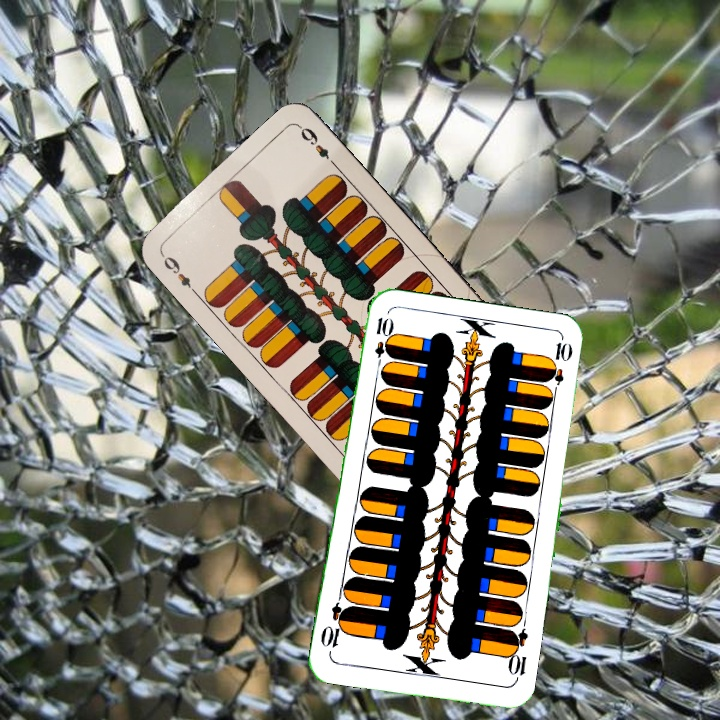E10: (503, 625, 531, 685), (370, 313, 394, 372)
E9: (156, 248, 199, 296)
